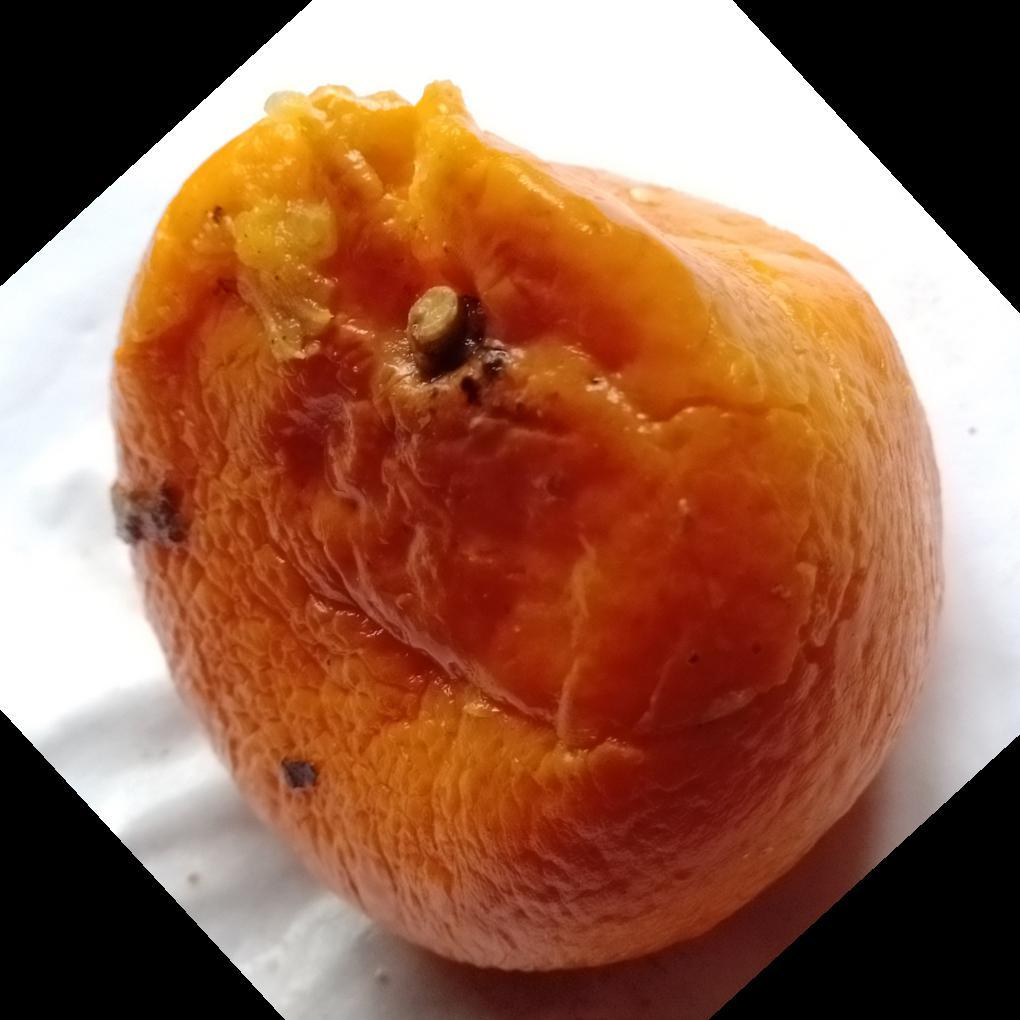FreshOrange: (106, 80, 945, 977)
